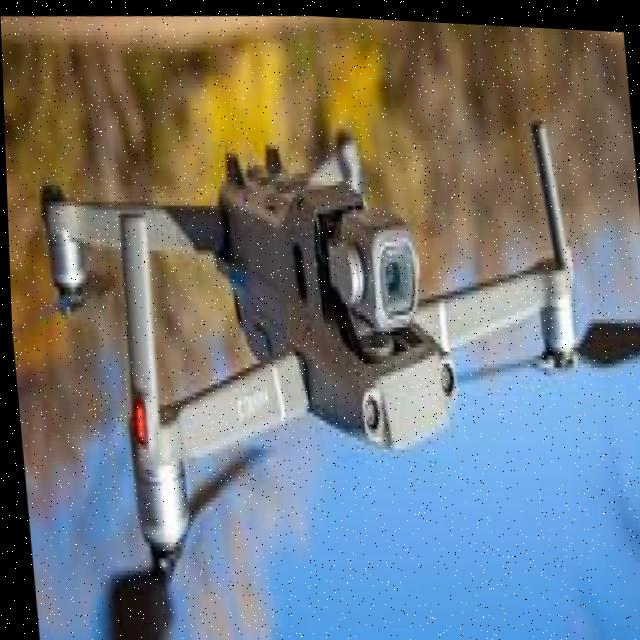drones: (20, 109, 640, 640)
